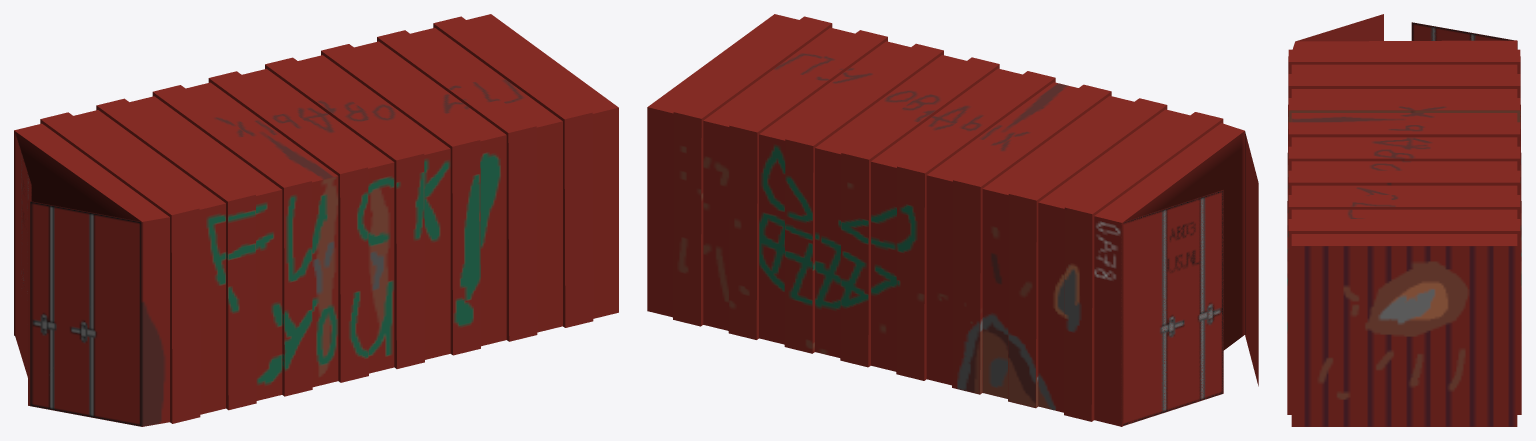
The model's file is container.fbx.
The picture shows the model from 3 angles, left to right: view 1: azimuth 30°, elevation 25°; view 2: azimuth 150°, elevation 25°; view 3: azimuth 270°, elevation 25°; orthographic projection. The views are drawn at different scales.
Parts seen in each view (by area): view 1: mesh, mesh_selection, mesh_selection_3, mesh_selection_1, mesh_selection_2; view 2: mesh, mesh_selection_1, mesh_selection_3, mesh_selection_2; view 3: mesh, mesh_selection_2, mesh_selection_1.
Boxes of the visible parts, left/top/right/bottom form: mesh: left=14, top=14, right=618, bottom=426; mesh_selection: left=30, top=201, right=142, bottom=426; mesh_selection_3: left=15, top=134, right=31, bottom=377; mesh_selection_1: left=15, top=132, right=31, bottom=339; mesh_selection_2: left=28, top=200, right=30, bottom=405; mesh: left=647, top=14, right=1244, bottom=426; mesh_selection_1: left=1121, top=190, right=1223, bottom=426; mesh_selection_3: left=1121, top=190, right=1223, bottom=425; mesh_selection_2: left=1245, top=133, right=1258, bottom=386; mesh: left=1287, top=40, right=1521, bottom=426; mesh_selection_2: left=1297, top=14, right=1383, bottom=41; mesh_selection_1: left=1411, top=22, right=1517, bottom=49.
Size of the model in its own units: 790 by 292 by 338.
Materials: 1 (1 with a texture image).
